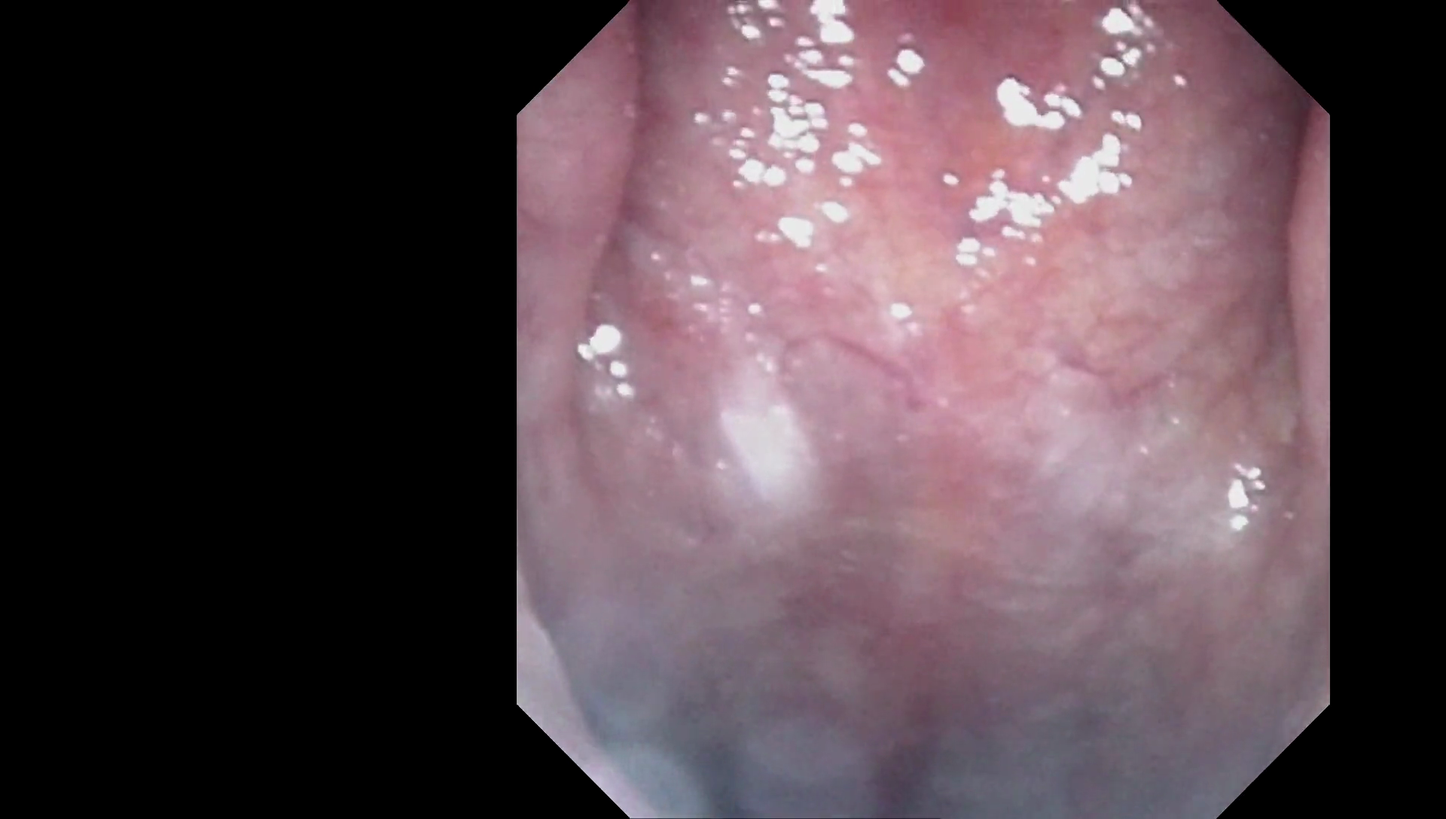next: (562, 678, 971, 819)
